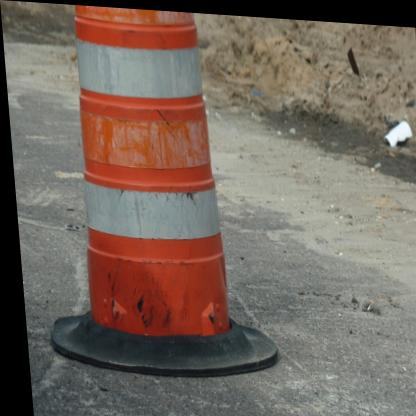obstacle: (67, 7, 229, 346)
